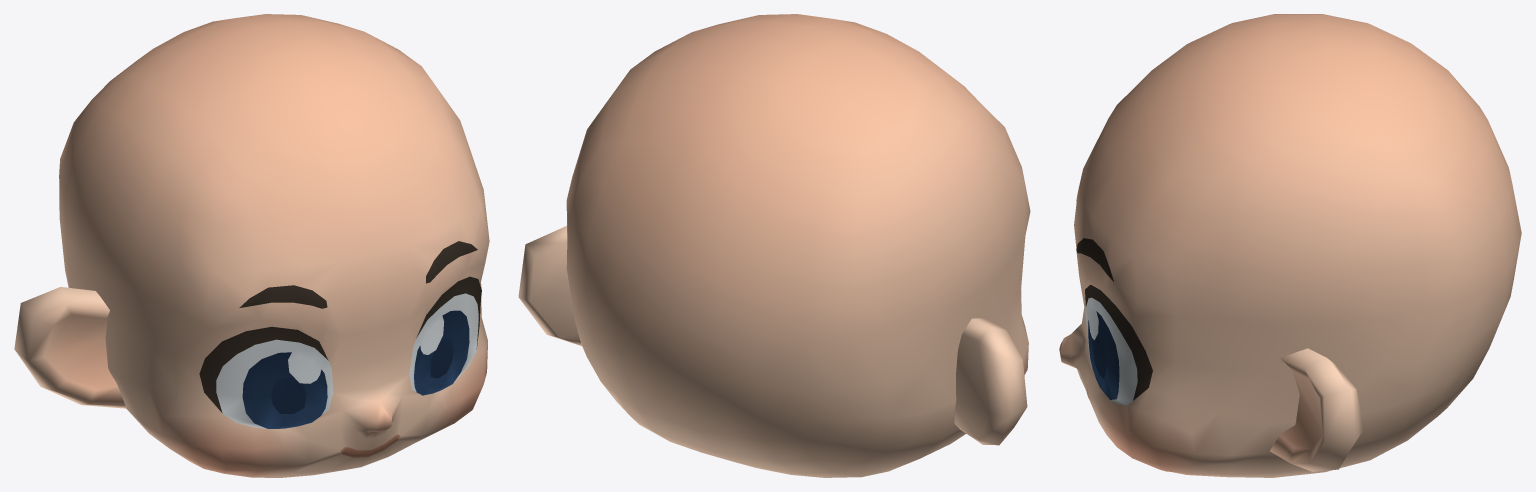
File: mutual.fbx
3 renders of one model, left to right at view 1: azimuth 30°, elevation 25°; view 2: azimuth 150°, elevation 25°; view 3: azimuth 270°, elevation 25°, orthographic. The views are drawn at different scales.
Visible parts, largest first — view 1: Neutral; view 2: Neutral; view 3: Neutral.
Part boxes in pixels (left/top/right/bottom): Neutral: left=14, top=14, right=489, bottom=477; Neutral: left=518, top=14, right=1030, bottom=477; Neutral: left=1059, top=14, right=1521, bottom=477.
Size of the model in its own units: 81.66 by 66.4 by 68.58.
